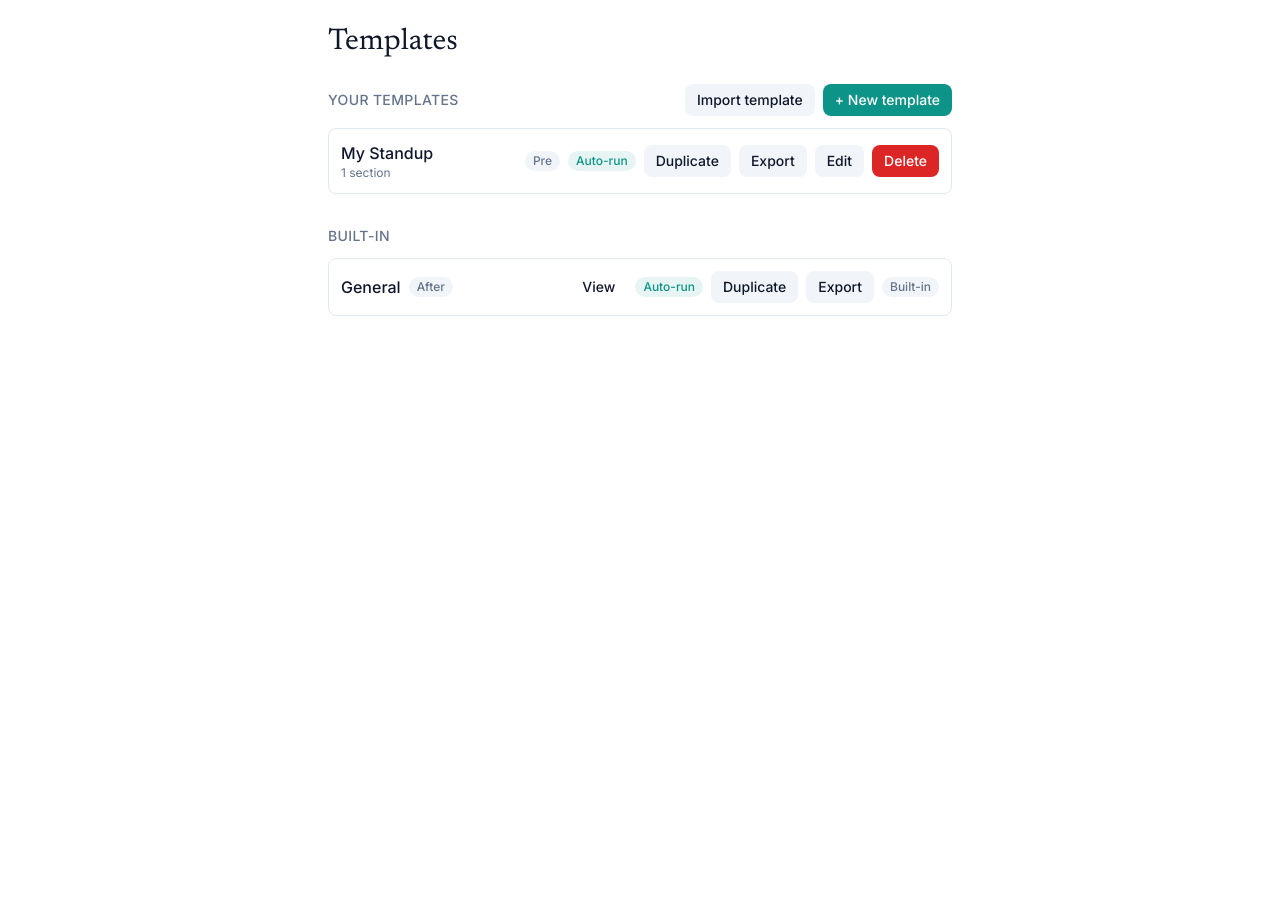
Test: TemplatesScreen › closes the preview dialog on Close
Click the button with aria-label "View General sections": (599,287) [570,271,627,303]
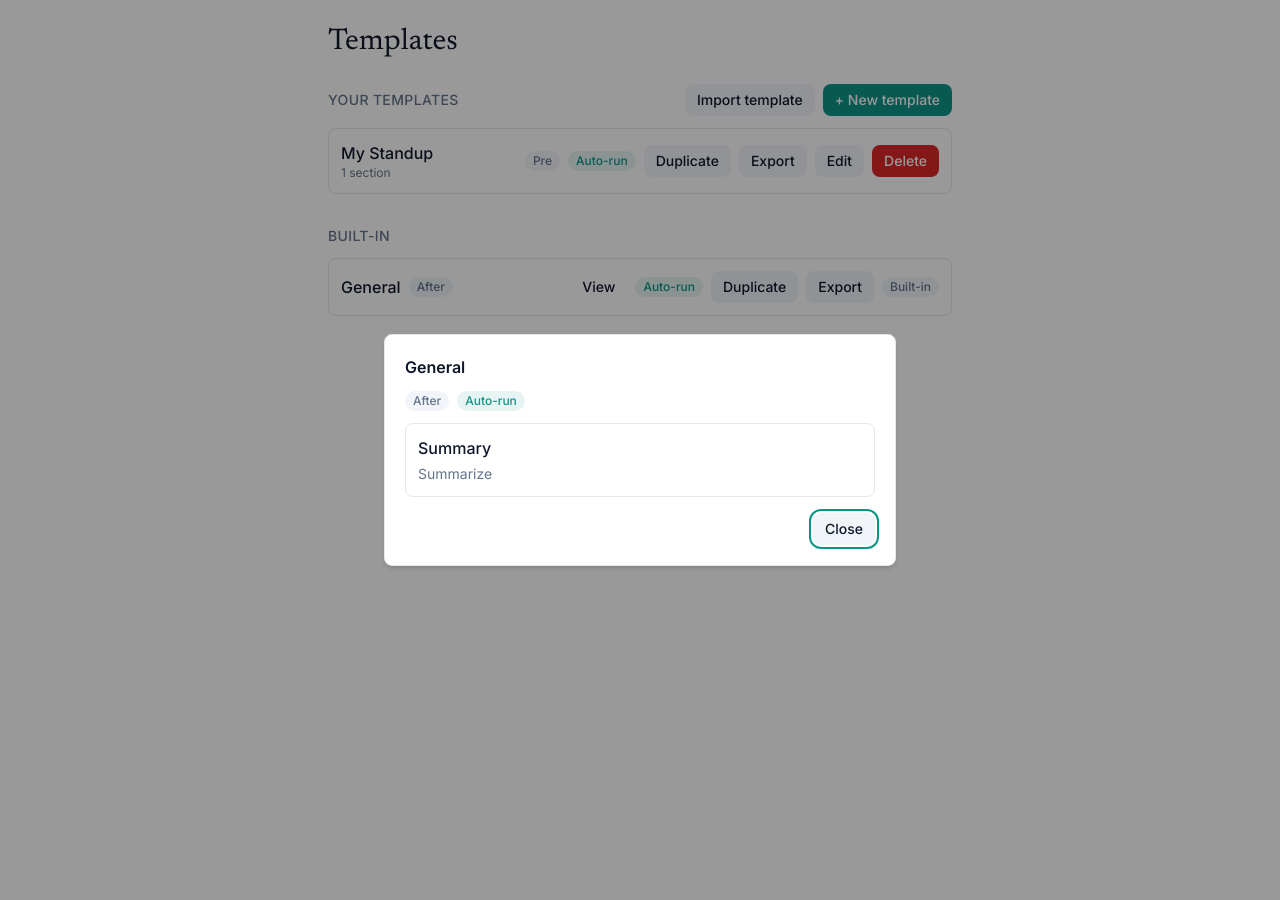
Click the button "Close": (844,529) [813,513,875,545]
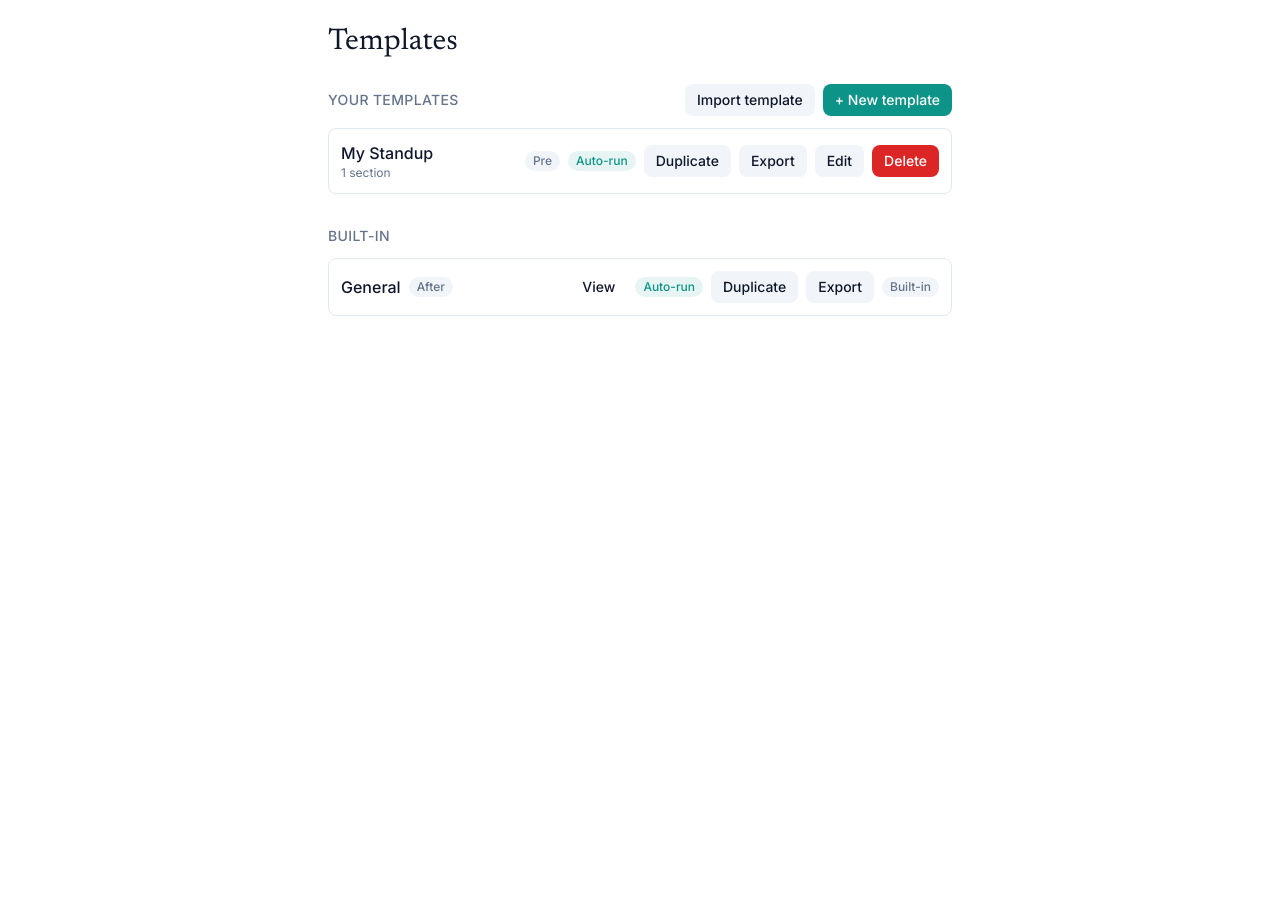
Result: the text "Summarize" is gone
